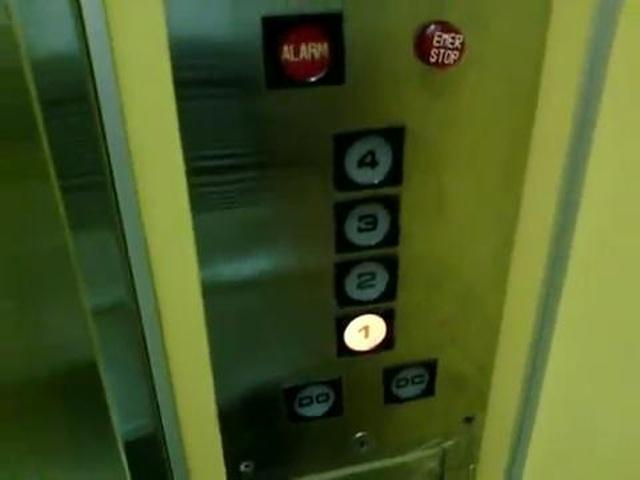1: (334, 306, 394, 357)
2: (333, 254, 397, 307)
3: (330, 194, 400, 255)
4: (330, 123, 404, 191)
keyhole: (350, 431, 376, 456)
unknown: (260, 9, 346, 90), (278, 375, 343, 423), (411, 18, 465, 69), (381, 358, 437, 405)
